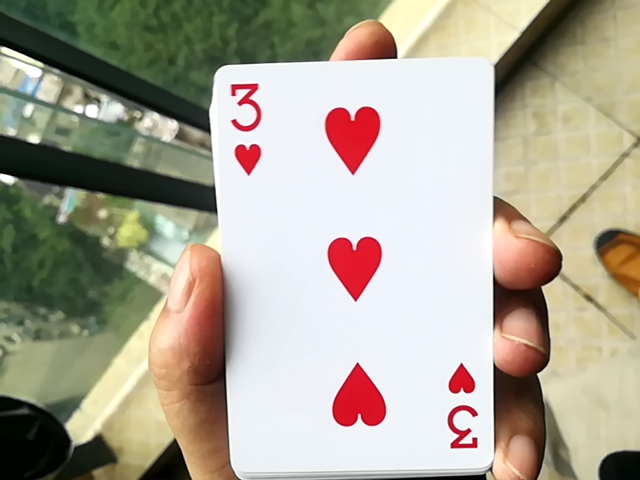hx 3: (203, 41, 496, 480)
